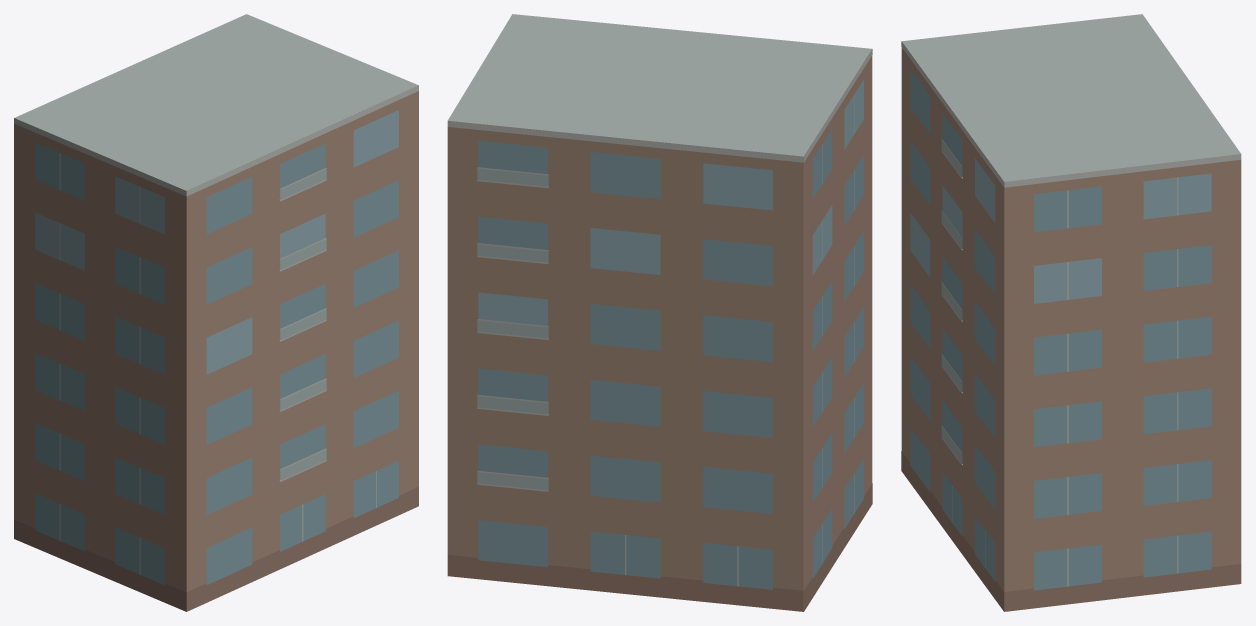
File: survey-upis-33028918.glb
The picture shows the model from 3 angles, left to right: view 1: azimuth 30°, elevation 25°; view 2: azimuth 150°, elevation 25°; view 3: azimuth 270°, elevation 25°; orthographic projection. The views are drawn at different scales.
Visible parts, largest first — view 1: survey-upis-33028918.tmp; view 2: survey-upis-33028918.tmp; view 3: survey-upis-33028918.tmp.
Boxes of the visible parts, left/top/right/bottom form: survey-upis-33028918.tmp: left=14, top=14, right=418, bottom=611; survey-upis-33028918.tmp: left=447, top=14, right=872, bottom=611; survey-upis-33028918.tmp: left=901, top=14, right=1241, bottom=611.
Bounding box in the file's own units: 15.35 × 18.3 × 13.12.
